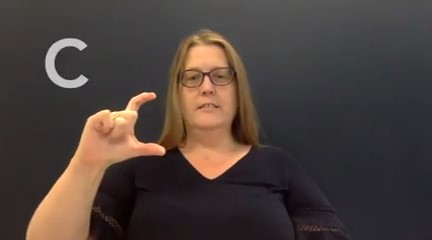C: (77, 87, 170, 166)
